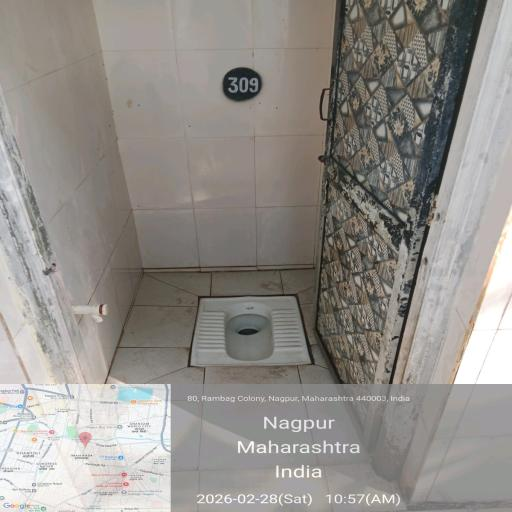clean_floor: (34, 54, 412, 212)
clean_indian: (202, 275, 341, 389)
partial_dirty_floor: (88, 272, 512, 512)
